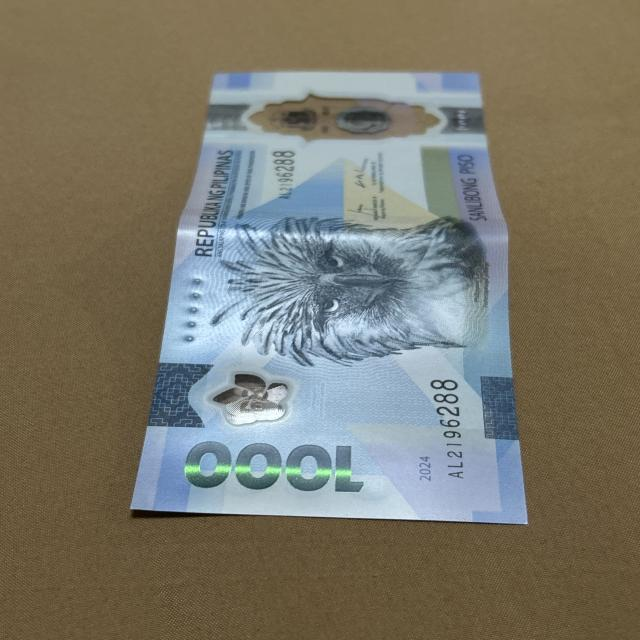clear_window: (242, 92, 440, 144)
eagle: (221, 218, 478, 358)
sampaguita: (211, 372, 296, 430)
